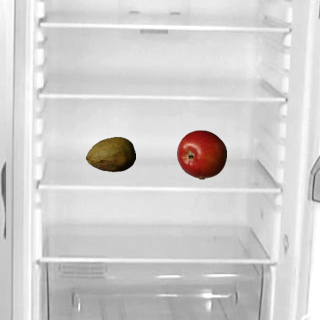Apple Braeburn: (176, 129, 226, 179)
Papaya: (85, 129, 135, 179)
